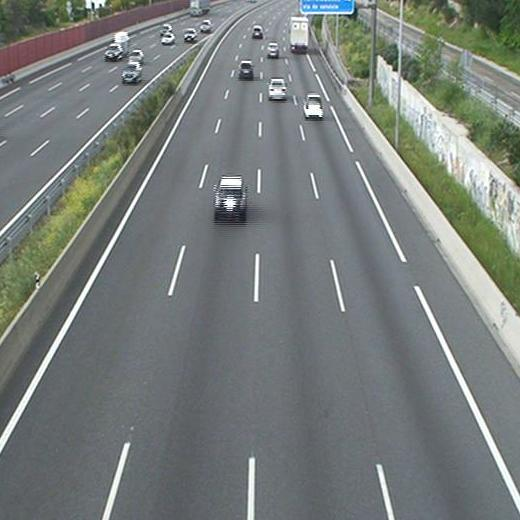car: (212, 176, 247, 225), (303, 94, 324, 119), (268, 78, 288, 100), (238, 60, 254, 79), (267, 42, 279, 59), (252, 25, 264, 41)
small-truck: (289, 17, 309, 54)
